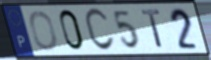0: (58, 8, 86, 52)
2: (169, 5, 204, 53)
5: (113, 10, 142, 51)
C: (83, 6, 117, 53)
O: (28, 9, 59, 52)
T: (140, 9, 166, 50)
